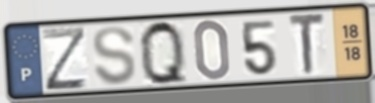0: (191, 18, 233, 83)
5: (239, 17, 281, 77)
Q: (137, 18, 192, 88)
S: (90, 24, 139, 88)
T: (286, 11, 327, 79)
Z: (40, 24, 90, 93)
